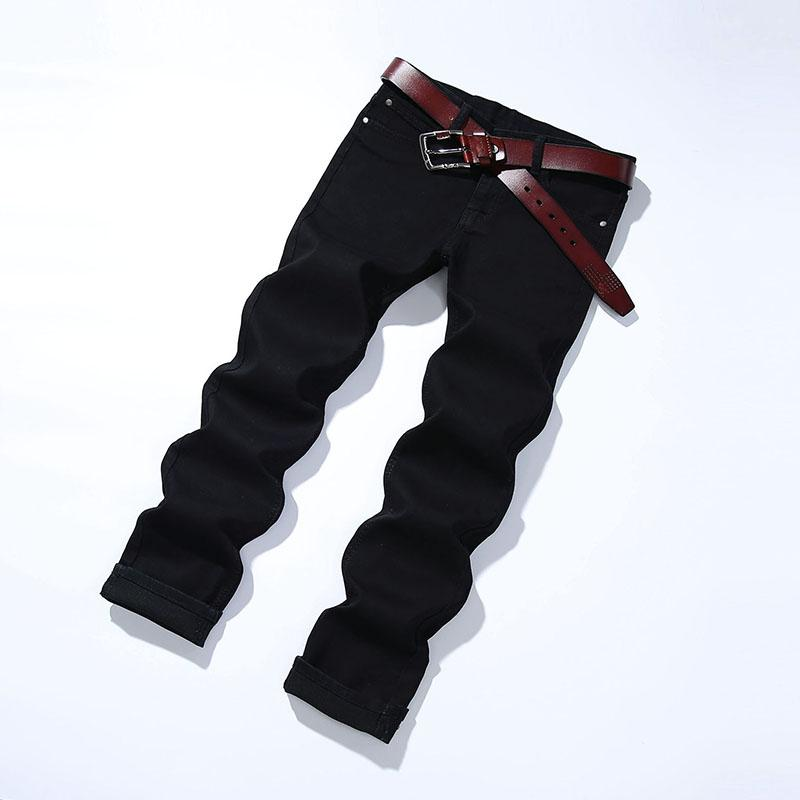jeans: (126, 56, 642, 760)
